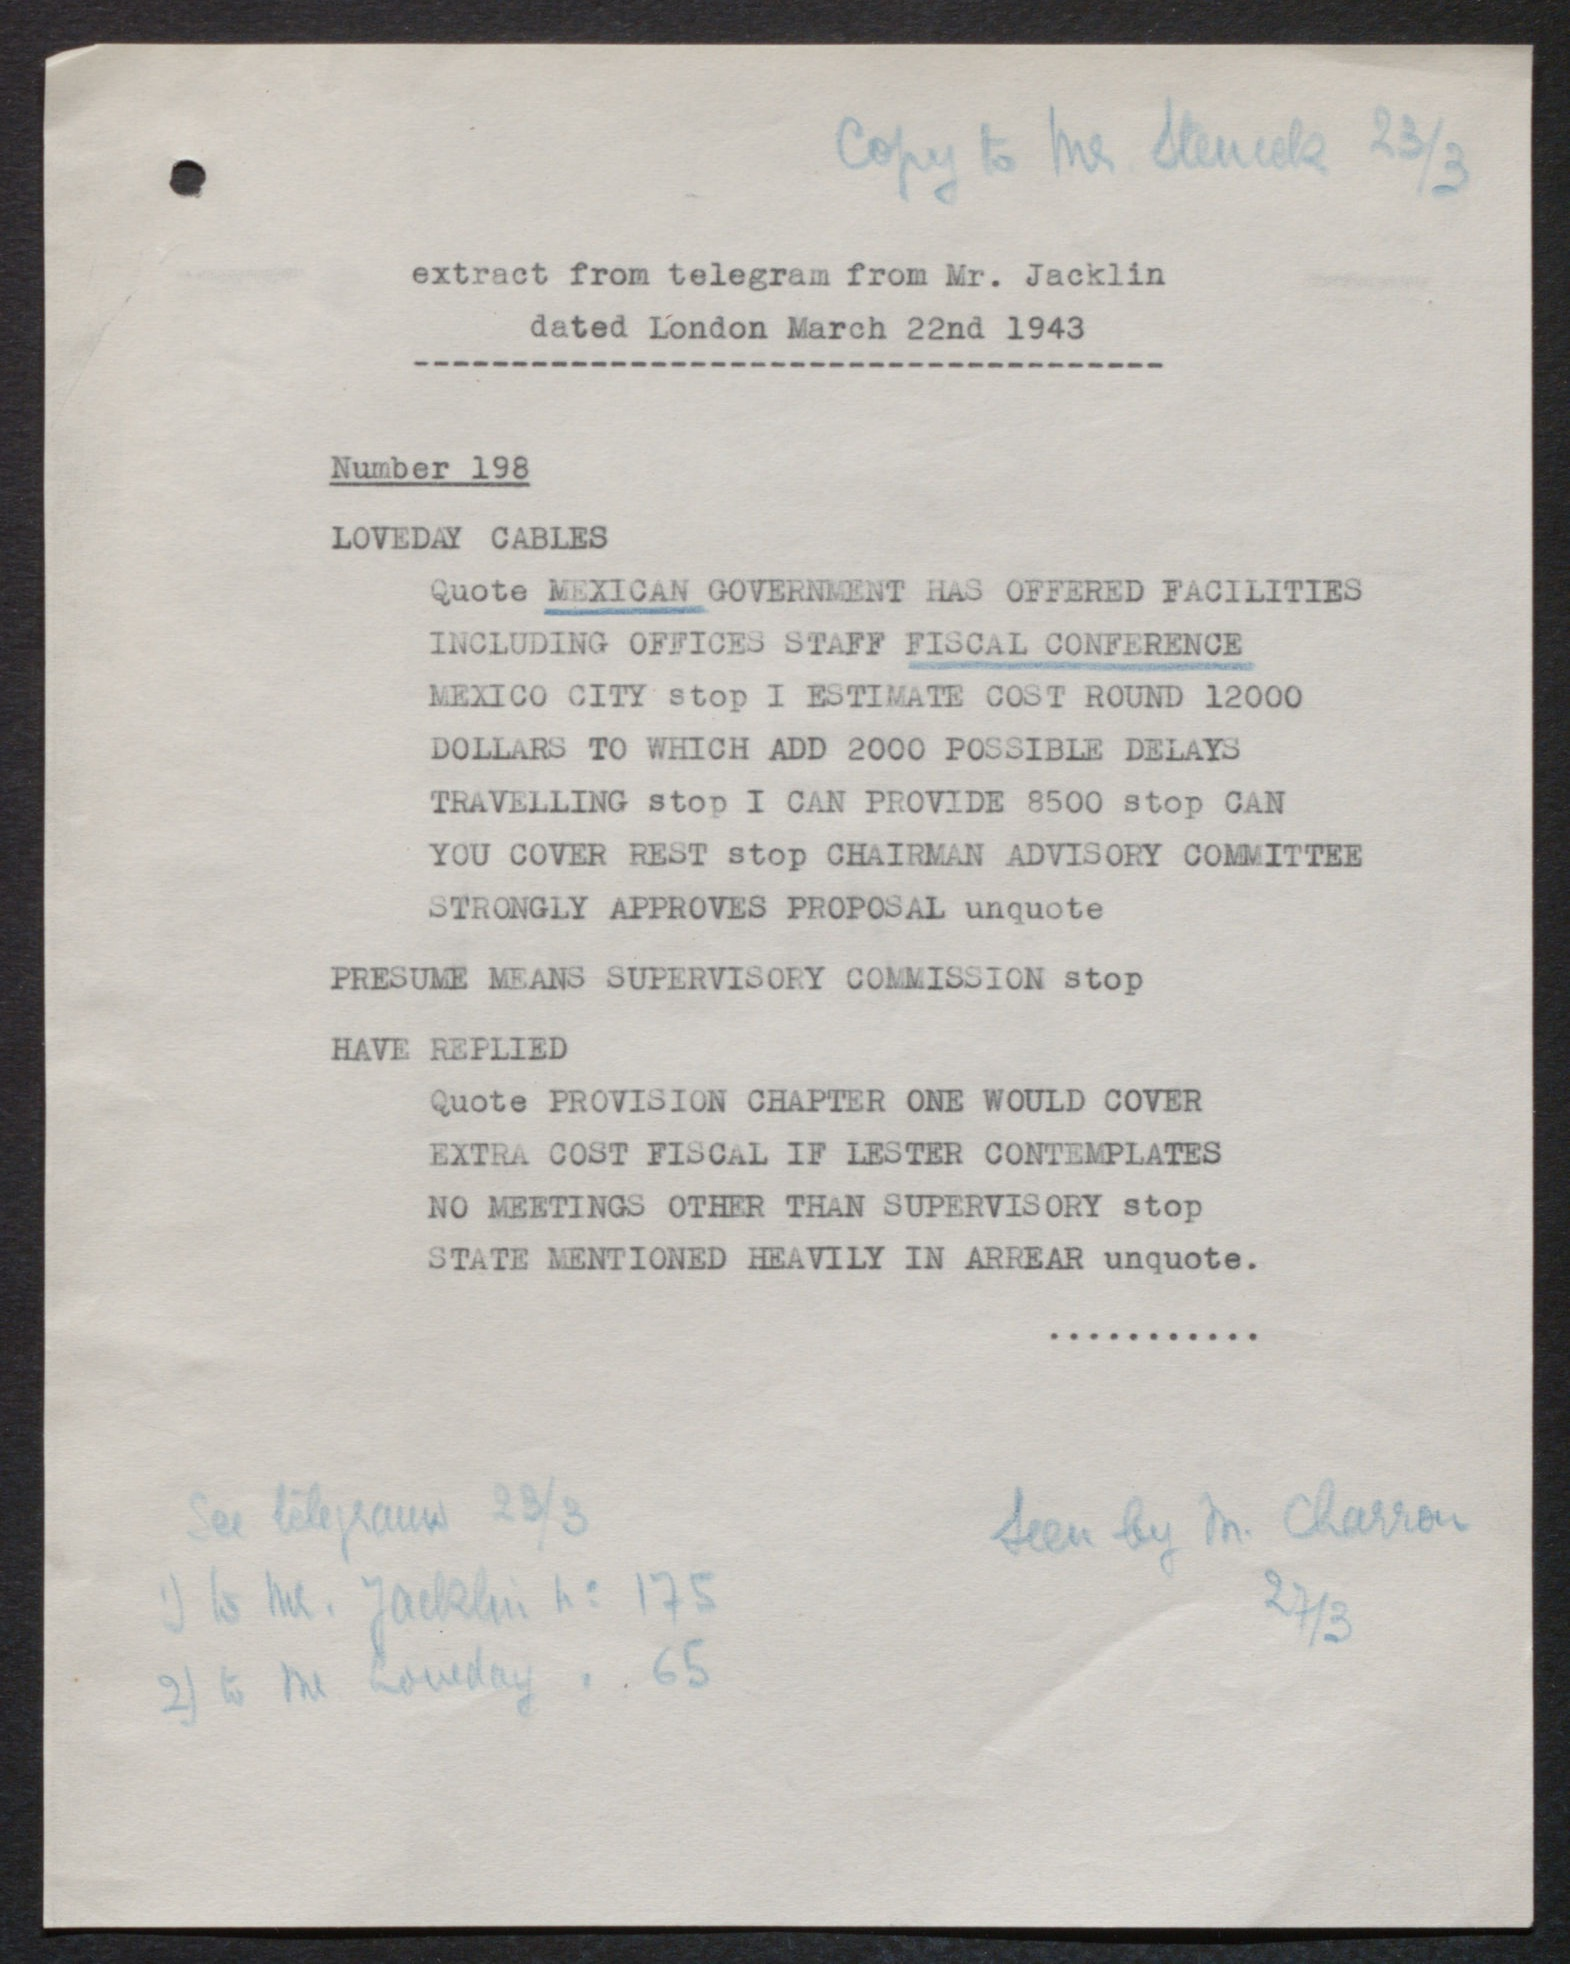MainZone-Head: (390, 244, 1186, 386), (312, 958, 1170, 1005), (309, 518, 631, 562), (322, 1024, 583, 1066)
MainZone-P: (416, 572, 1382, 934), (402, 1076, 1295, 1351)
MarginTextZone-ManuscriptAddendum: (132, 1477, 723, 1716), (821, 92, 1477, 208), (967, 1478, 1487, 1578), (1243, 1561, 1371, 1659)
NumberingZone: (315, 442, 553, 491)
